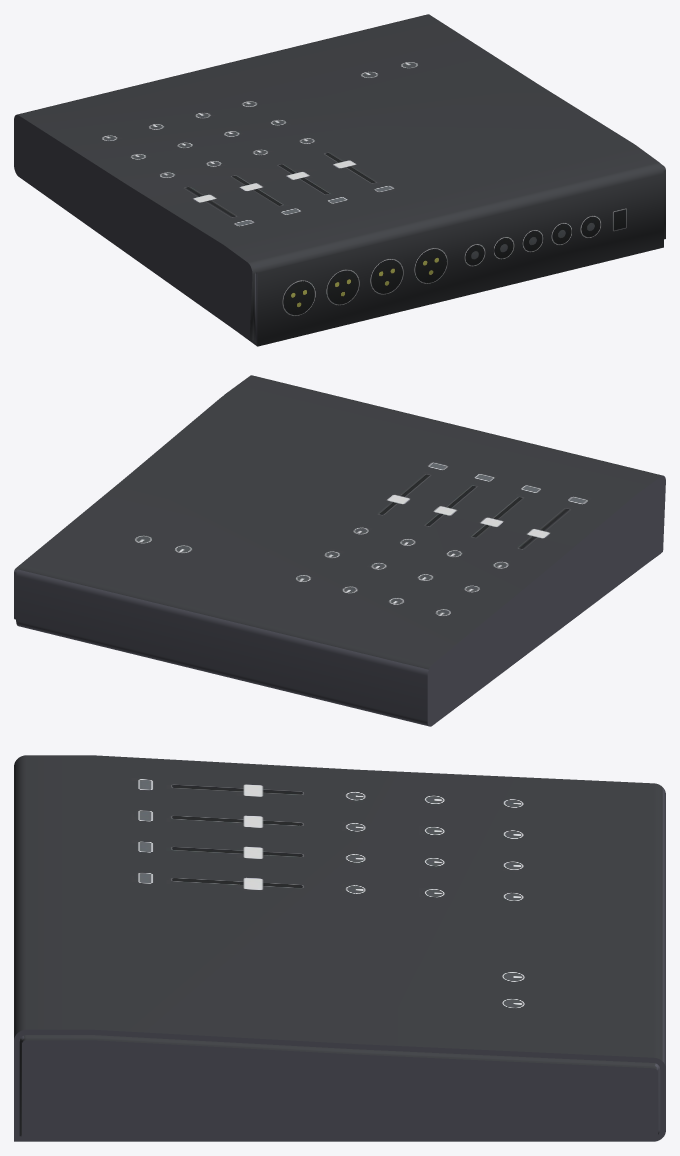
The model's file is behringer-xenyx-q1202usb.glb.
The picture shows the model from 3 angles, top to bottom: view 1: azimuth 30°, elevation 25°; view 2: azimuth 150°, elevation 25°; view 3: azimuth 270°, elevation 25°; orthographic projection. The views are drawn at different scales.
Visible parts, largest first — view 1: behringer-xenyx-q1202usb-body; view 2: behringer-xenyx-q1202usb-body; view 3: behringer-xenyx-q1202usb-body.
Part boxes in pixels (x1,y1,x2,y2): behringer-xenyx-q1202usb-body: [14, 14, 665, 346]; behringer-xenyx-q1202usb-body: [14, 375, 665, 726]; behringer-xenyx-q1202usb-body: [14, 755, 665, 1141].
Bounding box in the file's own units: 0.25 × 0.05 × 0.248.
Materials: 1 (1 with a texture image).
